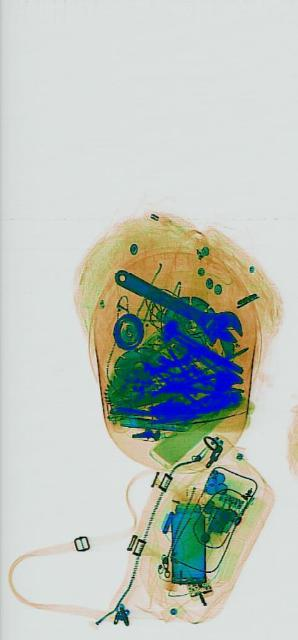Wrench: (110, 252, 241, 358)
